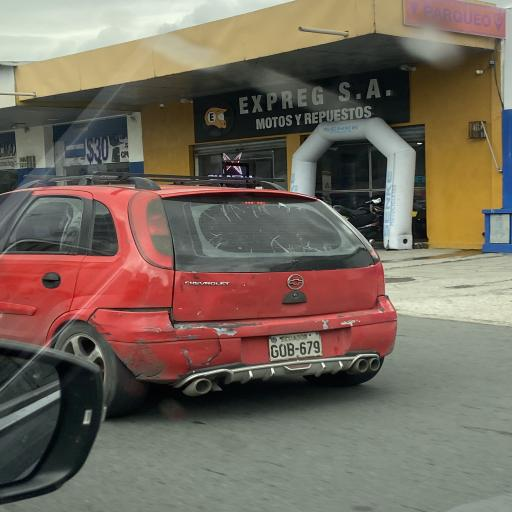license_plate: (269, 332, 322, 360)
